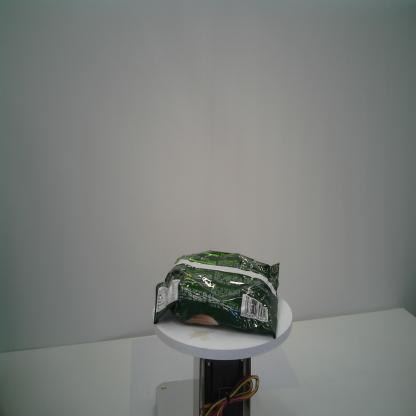Instant Noodles: (153, 250, 280, 341)
